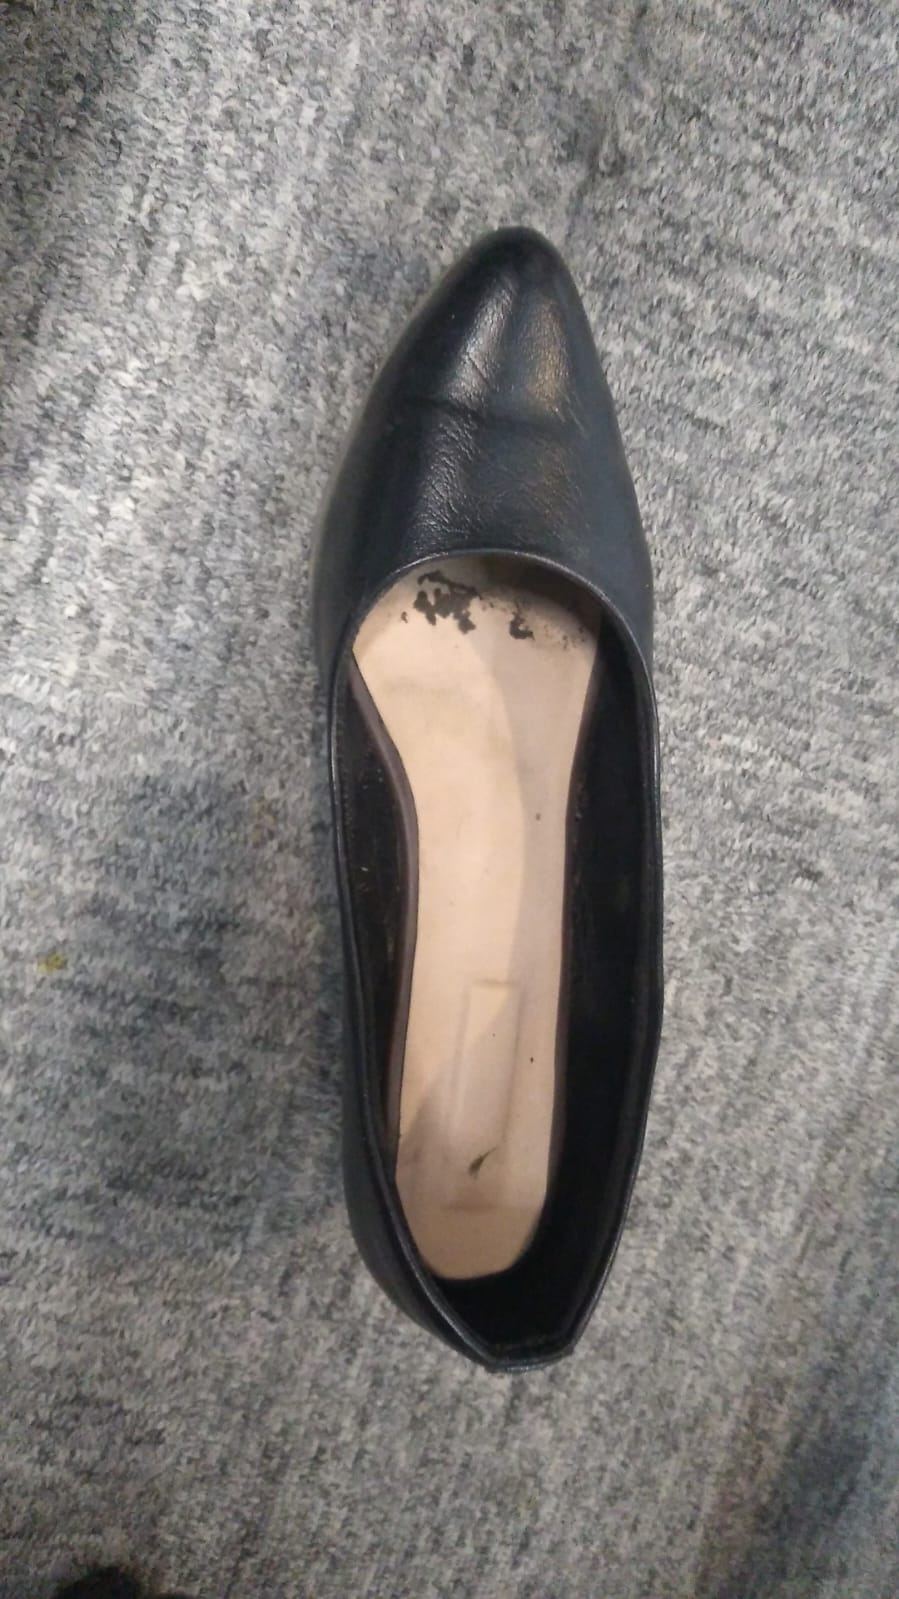Footwear: (211, 185, 711, 1436)
